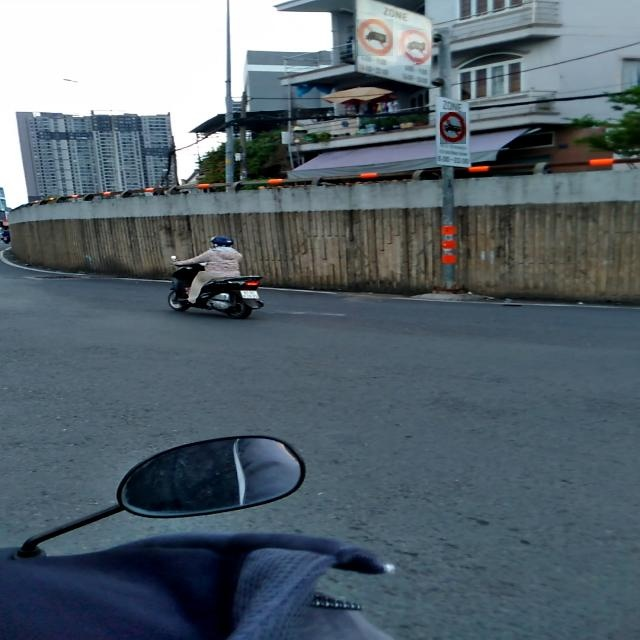bien_cam: (357, 19, 393, 56), (398, 30, 431, 65), (440, 112, 466, 144)
